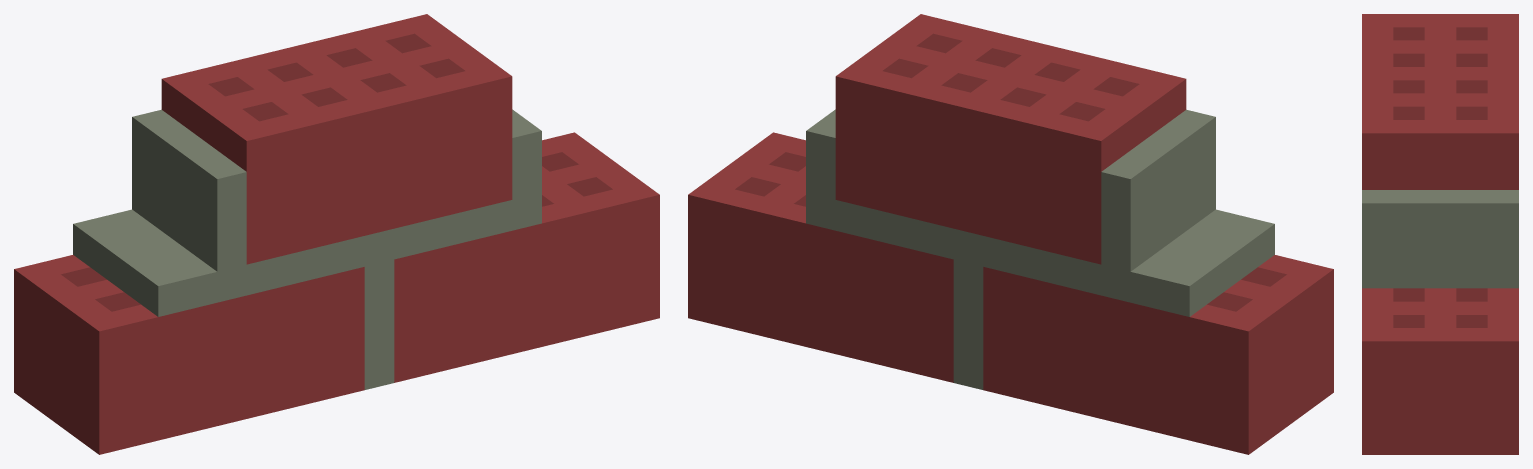
File: brick_three.obj
3 views of the same model, side by side, from view 1: azimuth 30°, elevation 25°; view 2: azimuth 150°, elevation 25°; view 3: azimuth 270°, elevation 25° (orthographic). The views are drawn at different scales.
Size of the model in its own units: 1.9 by 0.9 by 0.5.
Materials: 1 (1 with a texture image).
